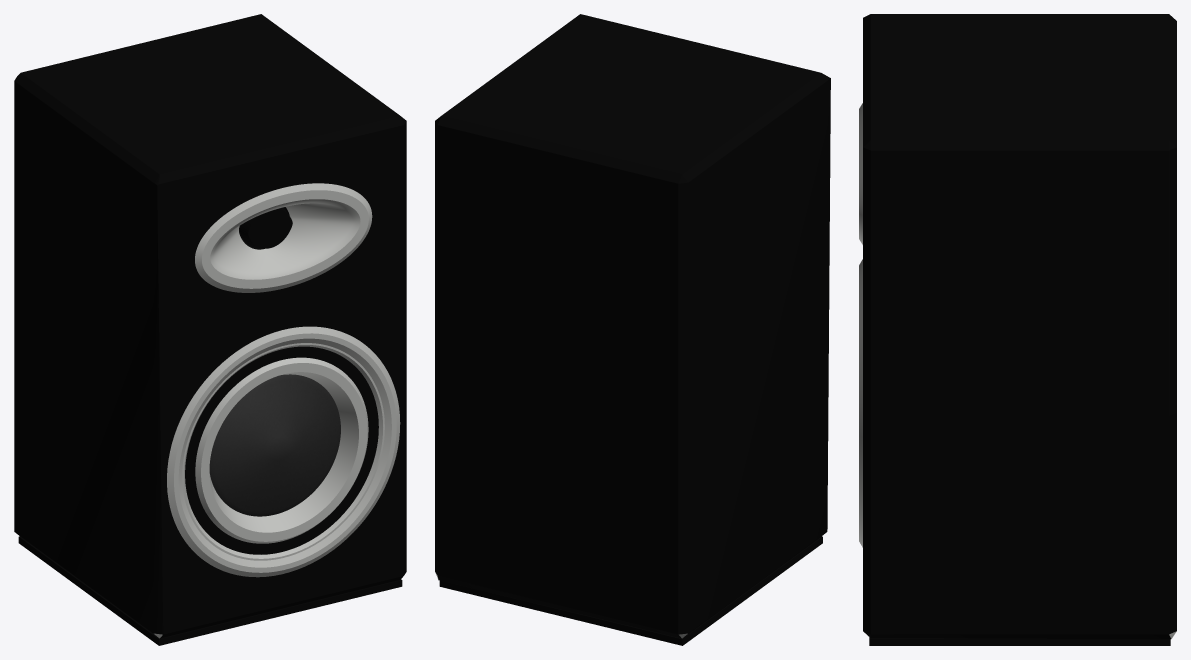
File: Speaker.fbx
The picture shows the model from 3 angles, left to right: view 1: azimuth 30°, elevation 25°; view 2: azimuth 150°, elevation 25°; view 3: azimuth 270°, elevation 25°; orthographic projection. The views are drawn at different scales.
Visible parts, largest first — view 1: speaker; view 2: speaker; view 3: speaker.
Part boxes in pixels (bbox=[...]): speaker: bbox=[14, 14, 406, 645]; speaker: bbox=[435, 14, 830, 645]; speaker: bbox=[859, 14, 1176, 645].
Bounding box in the file's own units: 11.45 × 20.33 × 11.6.
